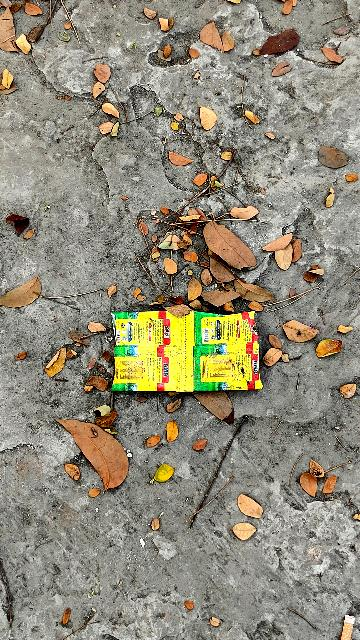packet: (100, 302, 271, 402)
